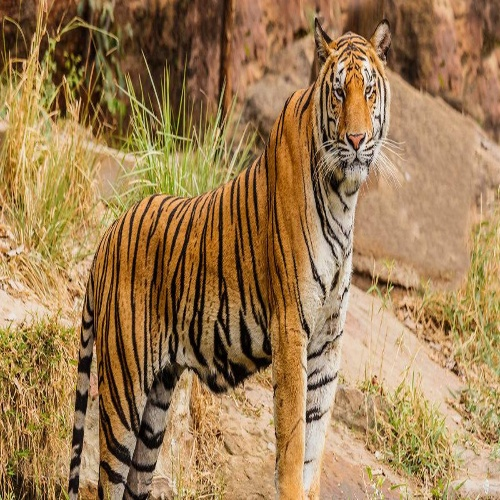tiger: (76, 25, 451, 489)
